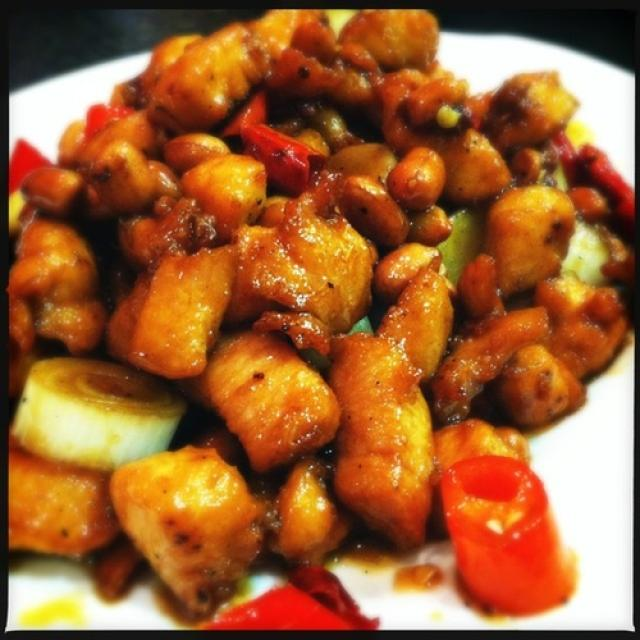鸡肉料理 含炸鸡: (15, 18, 631, 602)
